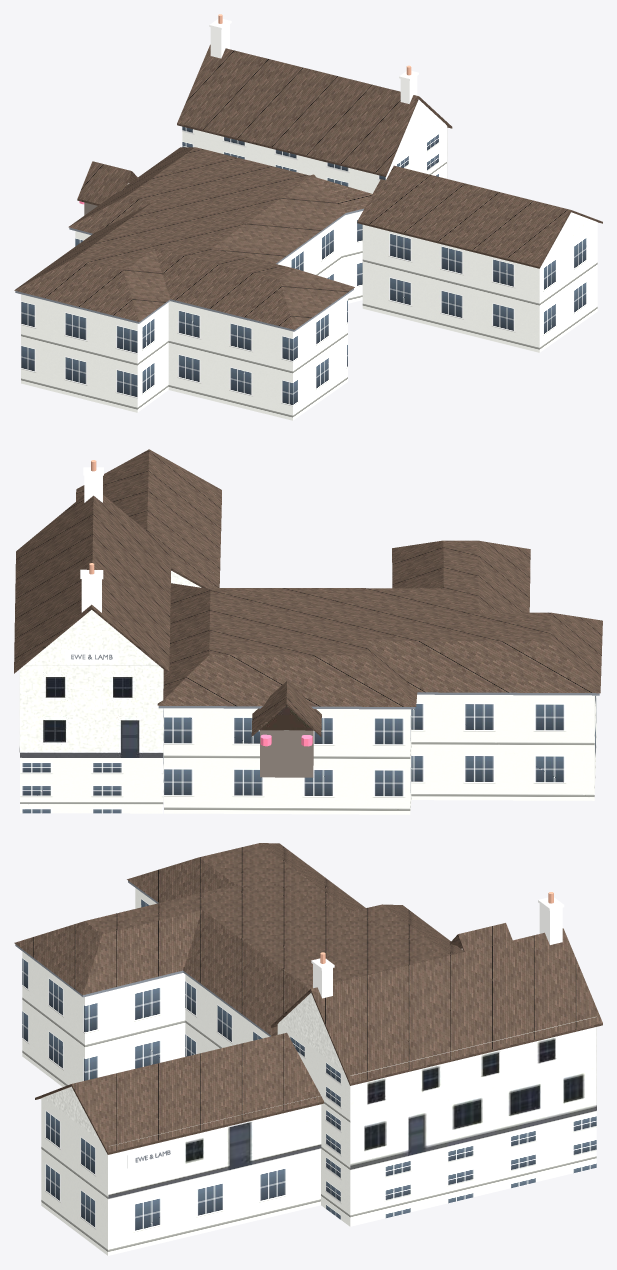
Rendered from ewe_and_lamb.glb.
The picture shows the model from 3 angles, top to bottom: view 1: azimuth 30°, elevation 25°; view 2: azimuth 150°, elevation 25°; view 3: azimuth 270°, elevation 25°; orthographic projection. The views are drawn at different scales.
Parts seen in each view (by area): view 1: PubRoof, Outbuilding, Pub, PubSouthGable, ChimneyN, RearEaves, OutGable0; view 2: PubRoof, Outbuilding, PubNorth, Pub, PubNorthGable, Porch, ChimneyN, RearEaves, NameBoard, PorchGable; view 3: PubRoof, Outbuilding, PubFront, Pub, OutFront, PubSouthGable, ChimneyN, OutGable0, RearEaves, NameBoard.
Boxes of the visible parts, left/top/right/bottom form: PubRoof: left=14, top=44, right=602, bottom=329; Outbuilding: left=21, top=211, right=597, bottom=420; Pub: left=182, top=125, right=446, bottom=193; PubSouthGable: left=391, top=99, right=445, bottom=164; ChimneyN: left=209, top=19, right=418, bottom=103; RearEaves: left=15, top=208, right=363, bottom=331; OutGable0: left=546, top=212, right=595, bottom=256; PubRoof: left=14, top=449, right=602, bottom=736; Outbuilding: left=164, top=694, right=596, bottom=814; PubNorth: left=20, top=665, right=163, bottom=757; Pub: left=20, top=669, right=163, bottom=813; PubNorthGable: left=25, top=610, right=158, bottom=665; Porch: left=260, top=730, right=313, bottom=777; ChimneyN: left=80, top=467, right=103, bottom=612; RearEaves: left=158, top=692, right=599, bottom=709; NameBoard: left=65, top=650, right=118, bottom=663; PorchGable: left=259, top=706, right=313, bottom=730; PubRoof: left=14, top=843, right=602, bottom=1154; Outbuilding: left=22, top=888, right=320, bottom=1255; PubFront: left=350, top=1016, right=596, bottom=1169; Pub: left=277, top=1023, right=596, bottom=1226; OutFront: left=108, top=1096, right=321, bottom=1199; PubSouthGable: left=279, top=993, right=343, bottom=1070; ChimneyN: left=311, top=897, right=564, bottom=998; OutGable0: left=43, top=1086, right=99, bottom=1139; RearEaves: left=15, top=881, right=270, bottom=1036; NameBoard: left=127, top=1143, right=177, bottom=1168.
Size of the model in its own units: 34.36 by 13.22 by 28.21.
19 materials, 11 textured.
